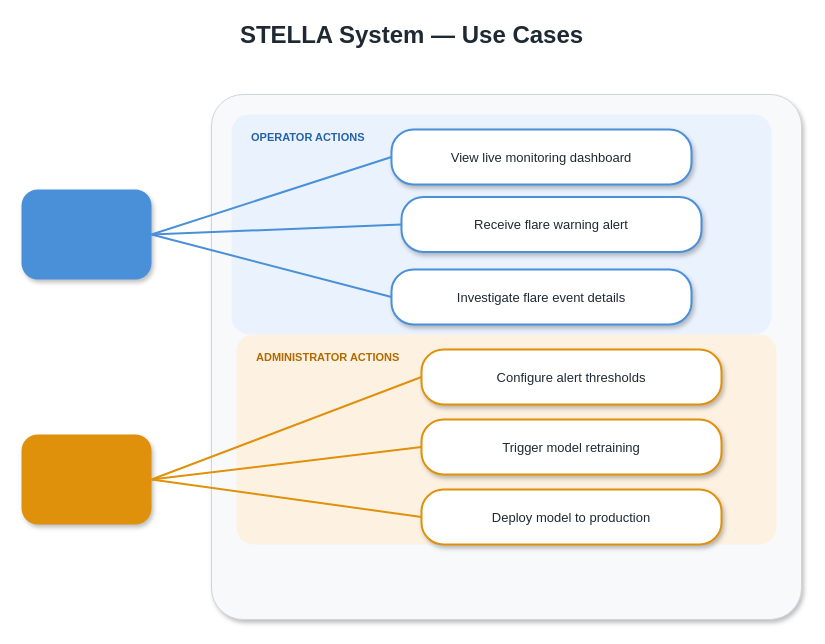
This 825x644 diagram has some shape labels left out. Here are the shapes that lost their labels. From the top down, the centre of each, then its label:
pixel 87 235: Operator
pixel 87 480: Administrator
